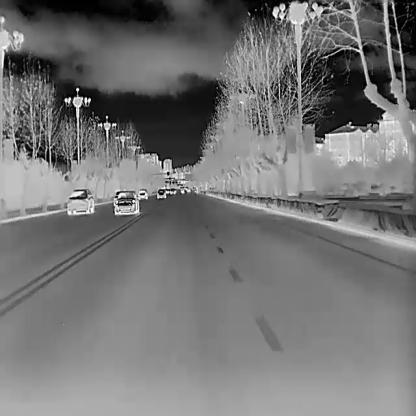car: (67, 189, 93, 216), (113, 190, 139, 214), (138, 189, 148, 199), (156, 188, 166, 198), (170, 188, 175, 194), (180, 187, 185, 193), (165, 188, 170, 193), (186, 188, 190, 192)
